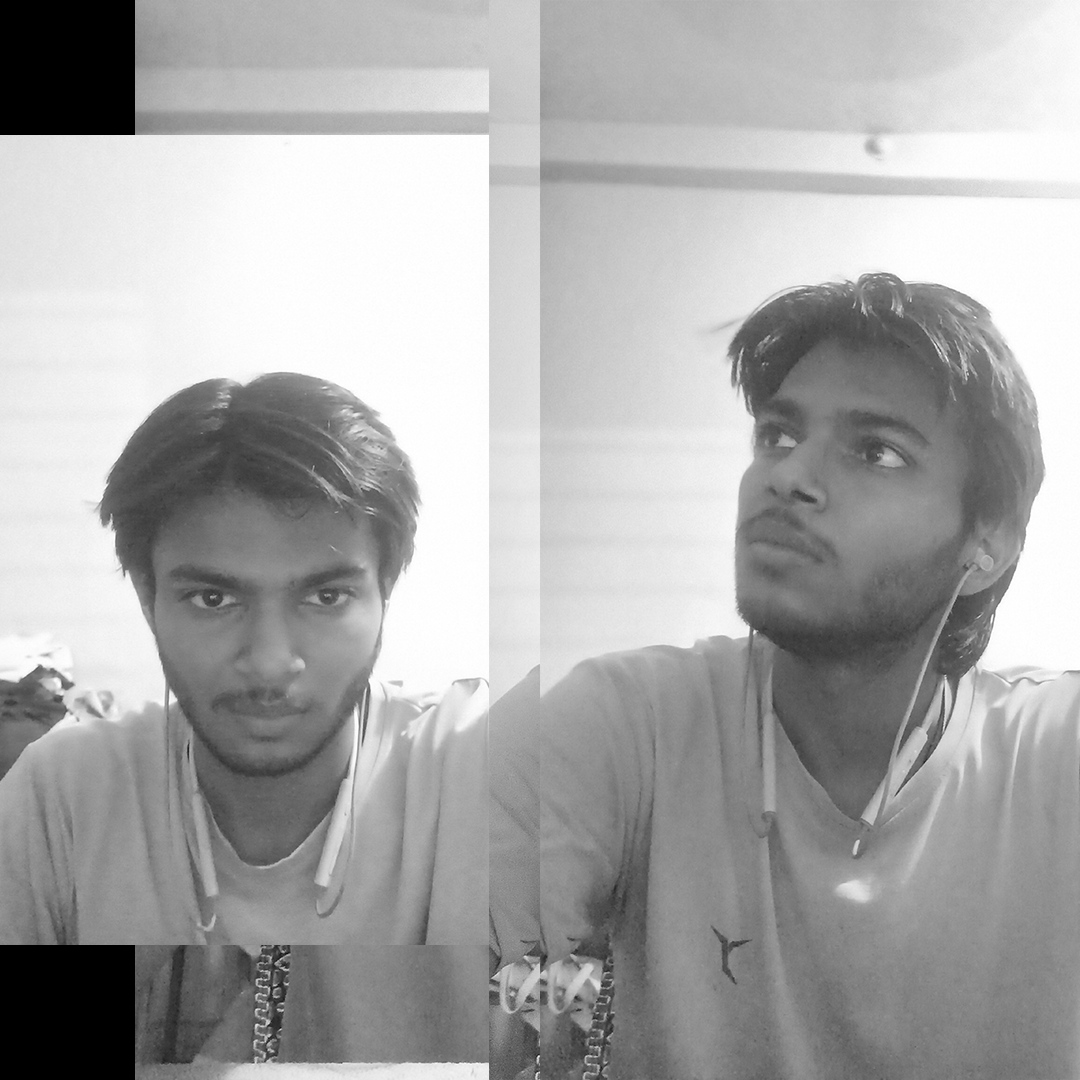Focused: (38, 233, 479, 976)
distracted: (610, 174, 1051, 1016)
